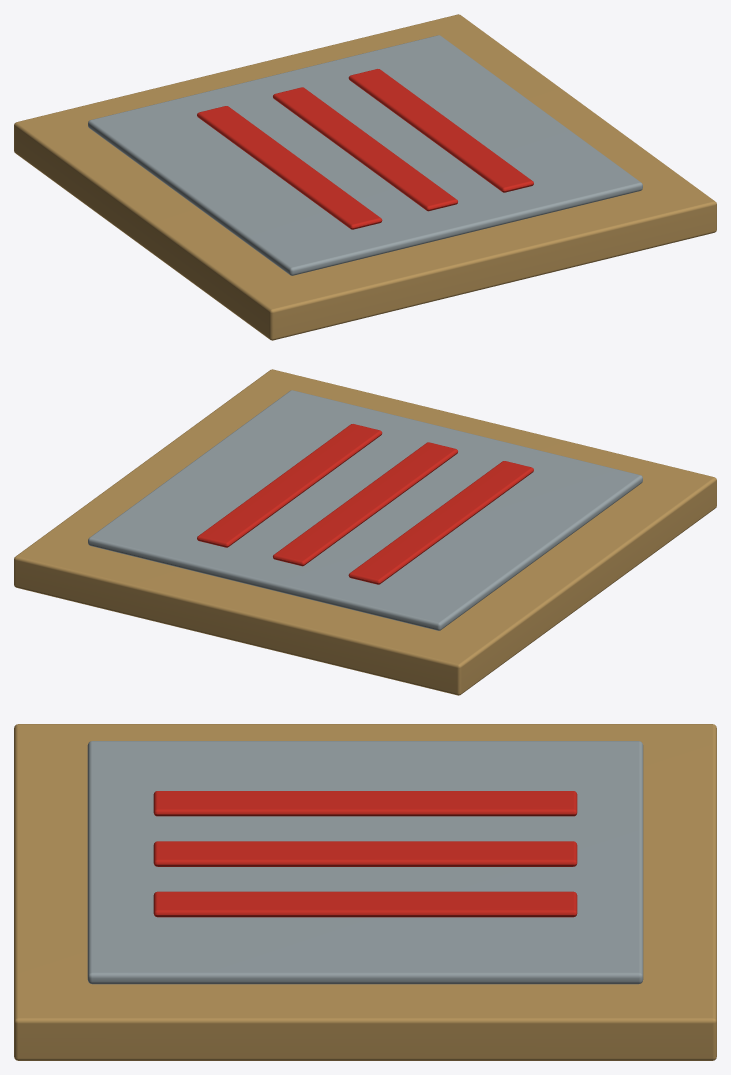
3 renders of one model, top to bottom at view 1: azimuth 30°, elevation 25°; view 2: azimuth 150°, elevation 25°; view 3: azimuth 270°, elevation 25°, orthographic. The views are drawn at different scales.
Visible parts, largest first — view 1: Foundation slab, Landing pad inset, Landing pad runway stripe, Landing pad runway stripe.002, Landing pad runway stripe.001; view 2: Foundation slab, Landing pad inset, Landing pad runway stripe, Landing pad runway stripe.002, Landing pad runway stripe.001; view 3: Landing pad inset, Foundation slab, Landing pad runway stripe.002, Landing pad runway stripe, Landing pad runway stripe.001.
Boxes of the visible parts, left/top/right/bottom form: Foundation slab: left=14, top=14, right=716, bottom=340; Landing pad inset: left=88, top=35, right=642, bottom=275; Landing pad runway stripe: left=197, top=106, right=382, bottom=229; Landing pad runway stripe.002: left=348, top=69, right=533, bottom=192; Landing pad runway stripe.001: left=273, top=87, right=457, bottom=211; Foundation slab: left=14, top=369, right=716, bottom=695; Landing pad inset: left=88, top=390, right=642, bottom=630; Landing pad runway stripe: left=348, top=461, right=533, bottom=584; Landing pad runway stripe.002: left=197, top=424, right=382, bottom=547; Landing pad runway stripe.001: left=273, top=442, right=457, bottom=566; Landing pad inset: left=87, top=741, right=643, bottom=984; Foundation slab: left=14, top=724, right=716, bottom=1060; Landing pad runway stripe.002: left=153, top=891, right=577, bottom=917; Landing pad runway stripe: left=153, top=791, right=577, bottom=816; Landing pad runway stripe.001: left=153, top=841, right=577, bottom=866.
Bounding box in the file's own units: 2.24 × 0.2225 × 2.24.
